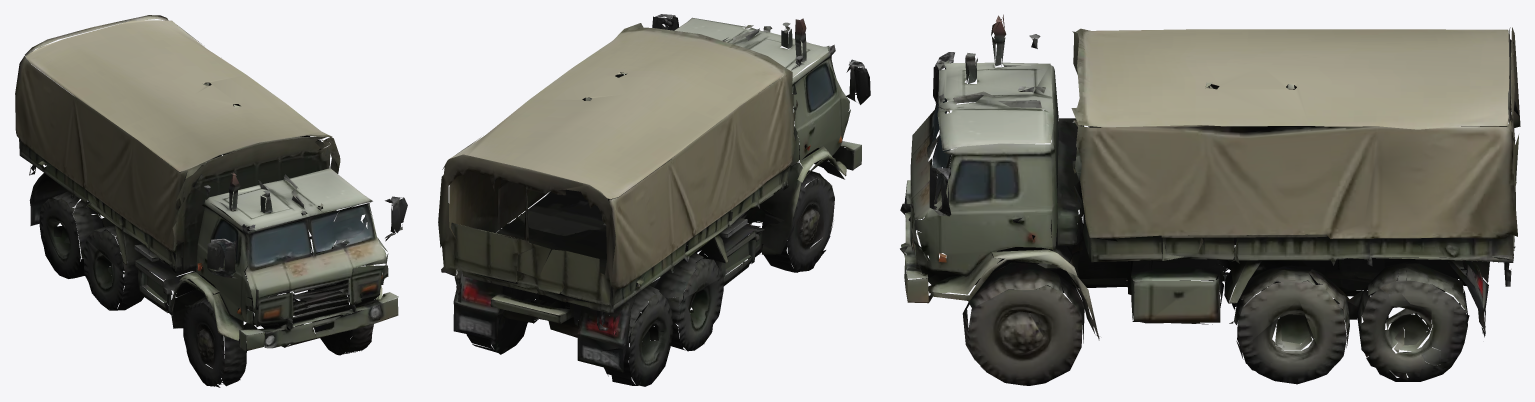
The model's file is wreck-truck.glb.
The picture shows the model from 3 angles, left to right: view 1: azimuth 30°, elevation 25°; view 2: azimuth 150°, elevation 25°; view 3: azimuth 270°, elevation 25°; orthographic projection. The views are drawn at different scales.
Visible parts, largest first — view 1: world; view 2: world; view 3: world.
Boxes of the visible parts, <box> form: world: <box>15,15,407,387</box>; world: <box>438,14,870,386</box>; world: <box>900,14,1520,385</box>.
Size of the model in its own units: 1.76 by 1.8 by 3.52.
1 material, 1 textured.
